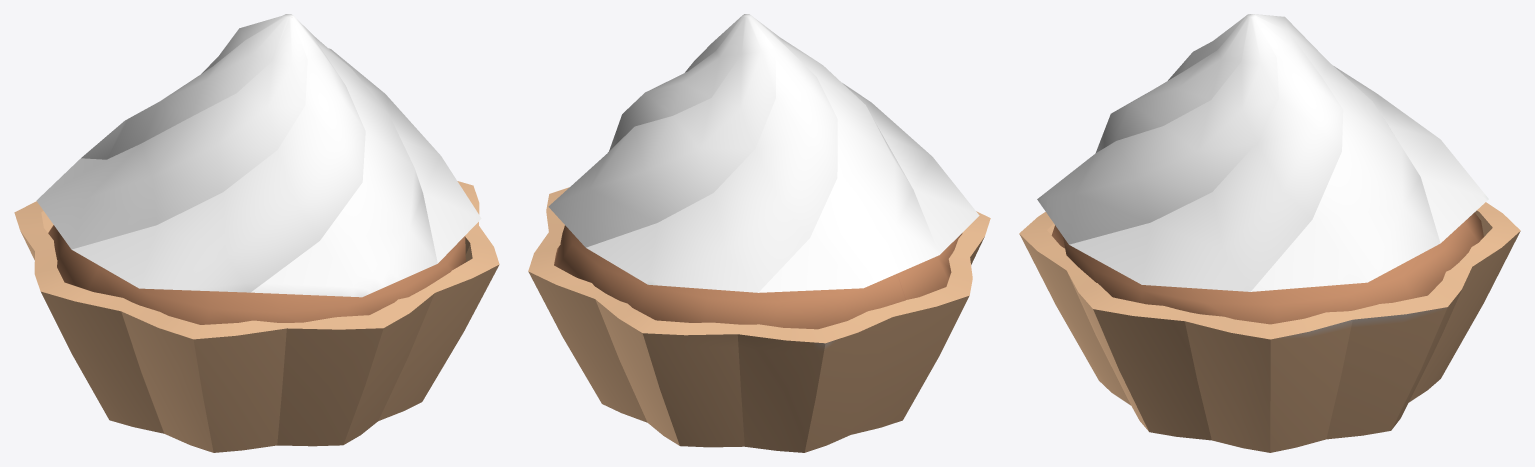
Rendered from SM_Cupcake_Yellow.fbx.
3 views of the same model, side by side, from view 1: azimuth 30°, elevation 25°; view 2: azimuth 150°, elevation 25°; view 3: azimuth 270°, elevation 25° (orthographic). The views are drawn at different scales.
Visible parts, largest first — view 1: Cylinder.008, Cylinder.022, Cylinder.009; view 2: Cylinder.008, Cylinder.022, Cylinder.009; view 3: Cylinder.008, Cylinder.022, Cylinder.009.
Part boxes in pixels (x1,y1,x2,y2): Cylinder.008: (36, 14, 481, 297); Cylinder.022: (14, 181, 499, 452); Cylinder.009: (48, 225, 465, 324); Cylinder.008: (548, 14, 979, 292); Cylinder.022: (528, 187, 990, 452); Cylinder.009: (554, 225, 962, 329); Cylinder.008: (1037, 14, 1488, 291); Cylinder.022: (1019, 202, 1520, 452); Cylinder.009: (1051, 212, 1483, 324).
Bounding box in the file's own units: 0.2278 × 0.2252 × 0.1858.
